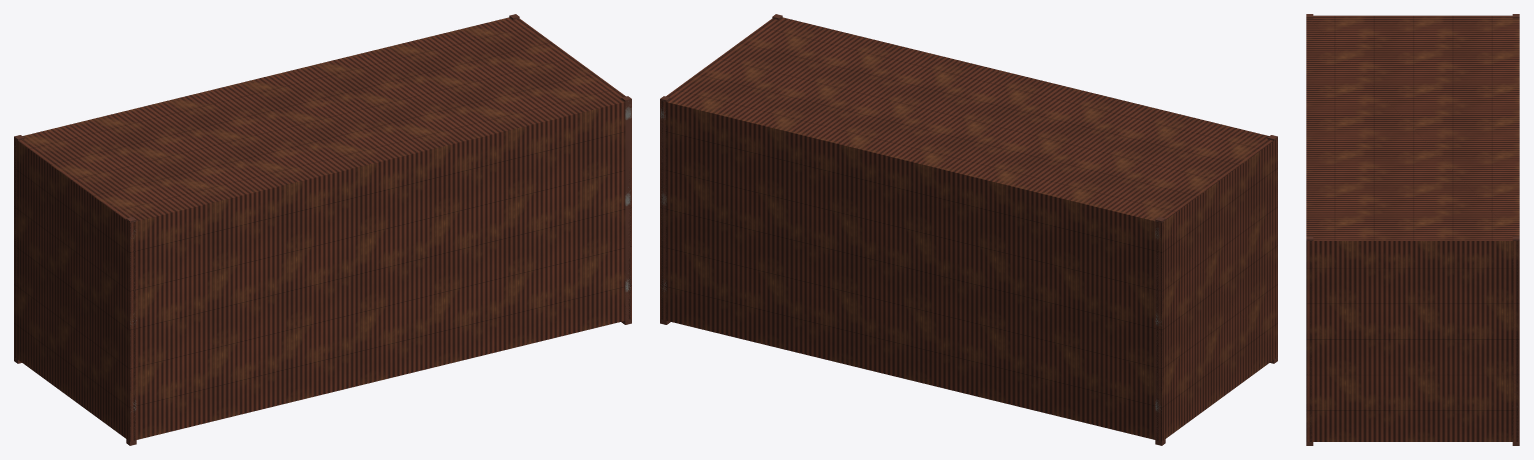
Rendered from container.glb.
3 views of the same model, side by side, from view 1: azimuth 30°, elevation 25°; view 2: azimuth 150°, elevation 25°; view 3: azimuth 270°, elevation 25° (orthographic). The views are drawn at different scales.
Visible parts, largest first — view 1: container; view 2: container; view 3: container.
Part boxes in pixels (bbox=[...]): container: bbox=[14, 14, 631, 445]; container: bbox=[660, 14, 1277, 445]; container: bbox=[1306, 14, 1519, 445].
Bounding box in the file's own units: 6.1 × 2.61 × 2.44.
2 materials, 2 textured.
